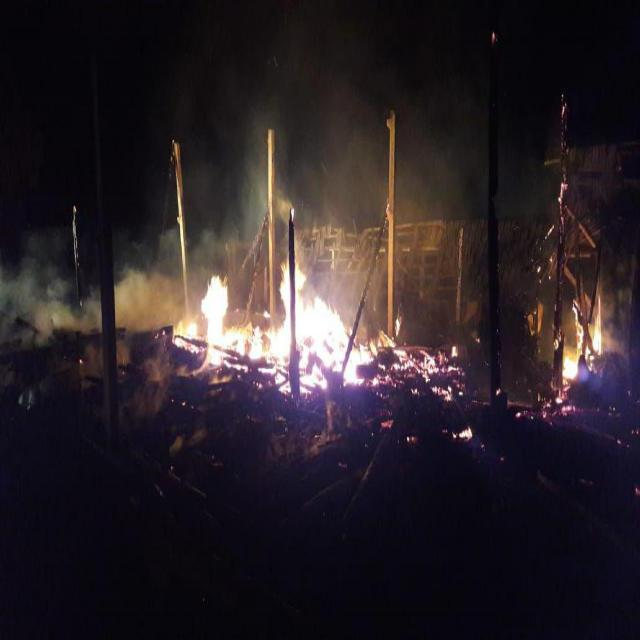fire: (195, 257, 380, 388)
